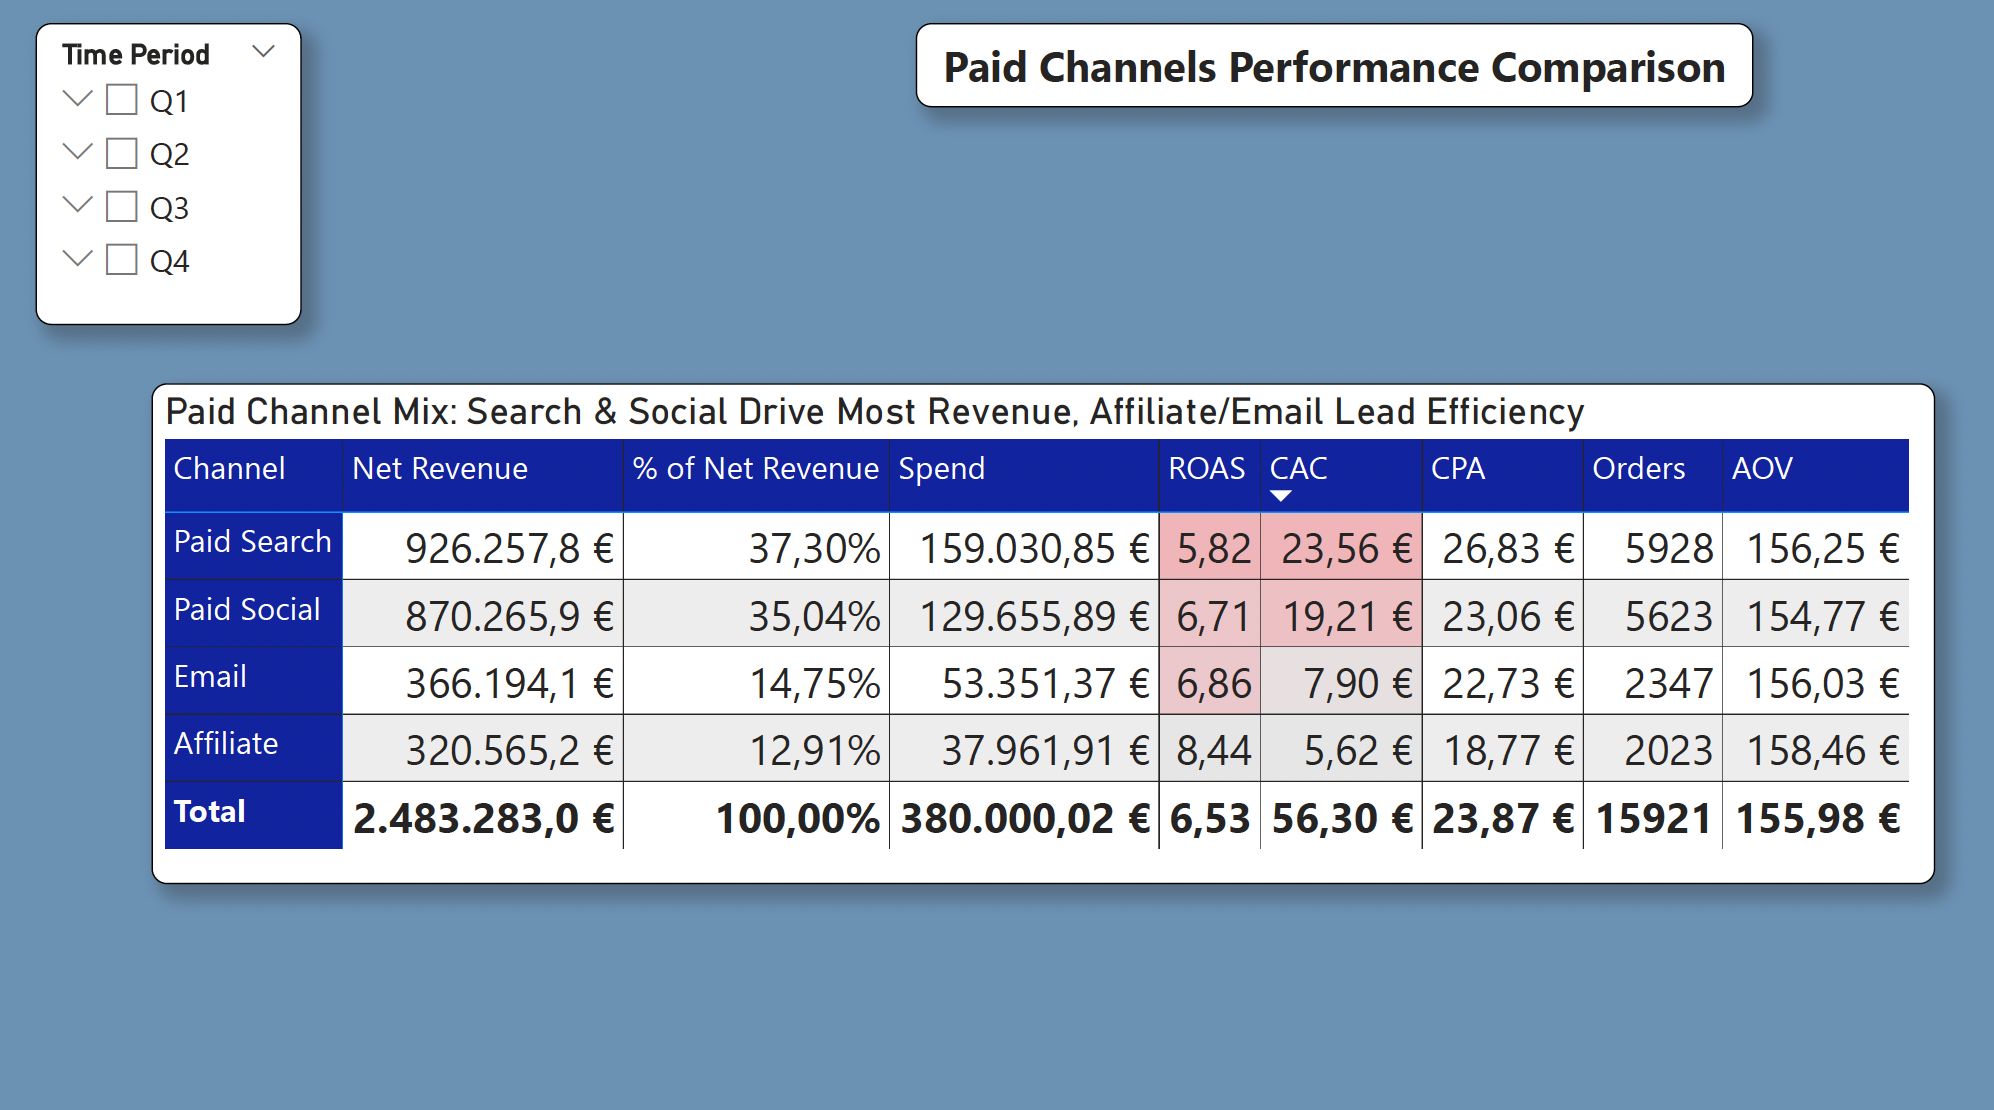

The dashboard page shown, as its layout file describes it:
{"tool":"powerbi","page":{"name":"Paid Cannels Performance","canvas":[1280,720],"ordinal":2},"visuals":[{"type":"pivotTable","title":"Paid Channel Mix: Search & Social Drive Most Revenue, Affiliate/Email Lead Efficiency","fields":{"Values":["_MEASURES.Net Revenue","Divide(_MEASURES.Net Revenue, ScopedEval(_MEASURES.Net Revenue, []))","_MEASURES.Non-Organic Spend","_MEASURES.ROAS","_MEASURES.CAC","_MEASURES.CPA","_MEASURES.Orders","_MEASURES.AOV"],"Rows":["dim_channel.channel"]},"box":[102.3,250.3,1138.5,320],"z":0},{"type":"slicer","fields":{"Values":["dim_date.date Hierarchy.quarter","dim_date.date Hierarchy.month_name_en","dim_date.date Hierarchy.date"]},"box":[28.3,19.6,169.8,193.7],"z":1000},{"type":"textbox","box":[589.9,19.6,535.5,54.4],"z":2000}]}

Visuals, with their boxes in screenshot pixels (x1, y1, x2, y2), scaled from the page's 1280x720 canvas onto the 1994x1110 screenshot:
"Paid Channel Mix: Search & Social Drive Most Revenue, Affiliate/Email Lead Efficiency" pivotTable: <region>159, 386, 1933, 879</region>
slicer - dim_date.date Hierarchy.quarter x dim_date.date Hierarchy.month_name_en: <region>44, 30, 309, 329</region>
textbox: <region>919, 30, 1753, 114</region>
